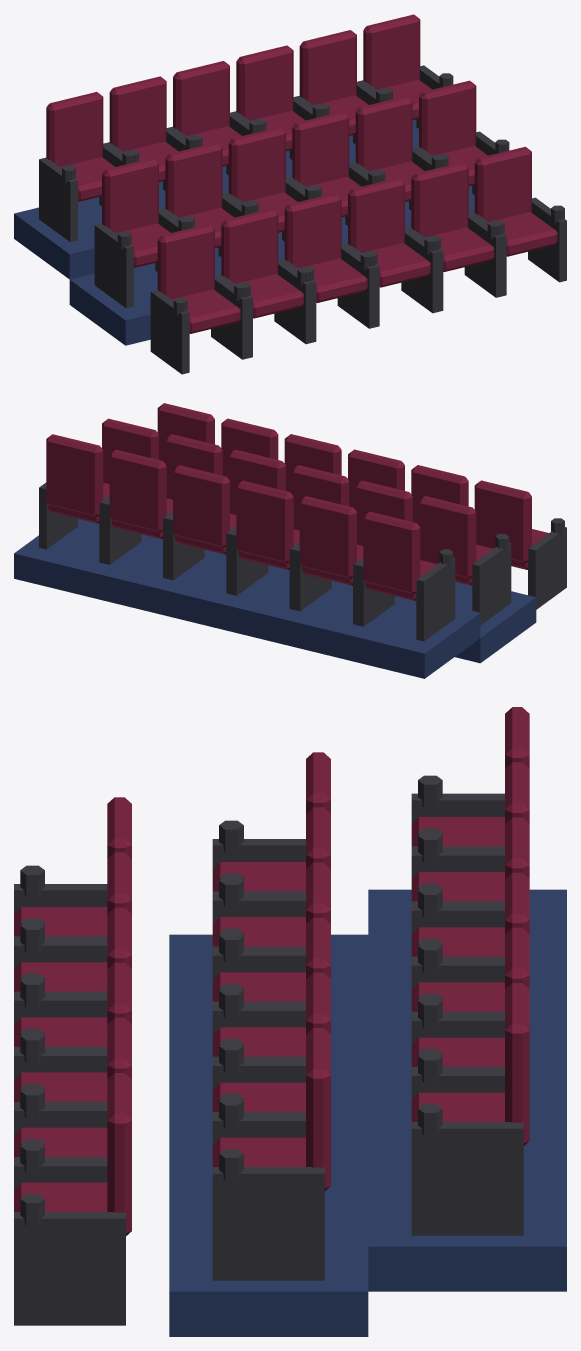
Rendered from TheaterSeatRows.fbx.
3 views of the same model, one above another, from view 1: azimuth 30°, elevation 25°; view 2: azimuth 150°, elevation 25°; view 3: azimuth 270°, elevation 25° (orthographic). The views are drawn at different scales.
Visible parts, largest first — view 1: TheaterSeatRows; view 2: TheaterSeatRows; view 3: TheaterSeatRows.
Boxes of the visible parts, bbox=[...] form: TheaterSeatRows: bbox=[14, 14, 566, 374]; TheaterSeatRows: bbox=[14, 403, 566, 678]; TheaterSeatRows: bbox=[14, 707, 566, 1336].
Size of the model in its own units: 13.6 by 5.2 by 8.9.
1 material, 1 textured.
